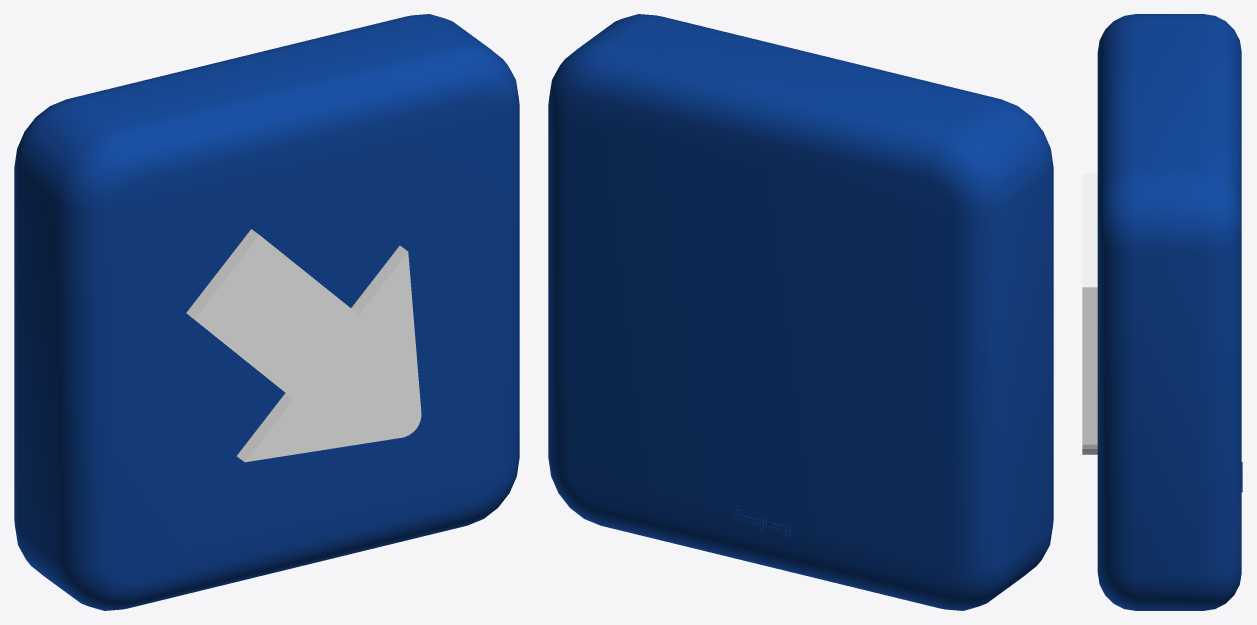
File: down_right_arrow.fbx
3 views of the same model, side by side, from view 1: azimuth 30°, elevation 25°; view 2: azimuth 150°, elevation 25°; view 3: azimuth 270°, elevation 25° (orthographic). The views are drawn at different scales.
Parts seen in each view (by area): view 1: down_right_arrow; view 2: down_right_arrow; view 3: down_right_arrow.
Part boxes in pixels (x1,y1,x2,y2): down_right_arrow: (14, 14, 519, 610); down_right_arrow: (548, 14, 1053, 610); down_right_arrow: (1082, 14, 1242, 610).
Size of the model in its own units: 220 by 220 by 73.37.
Materials: 1 (1 with a texture image).
